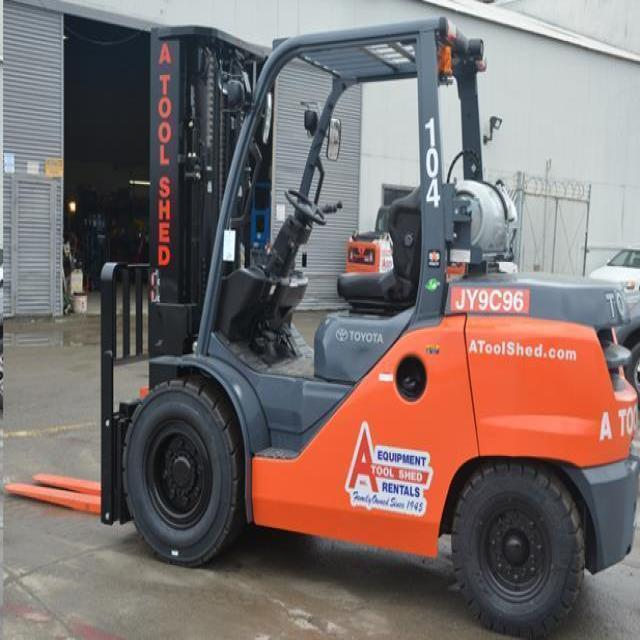forklift: (98, 14, 640, 637)
